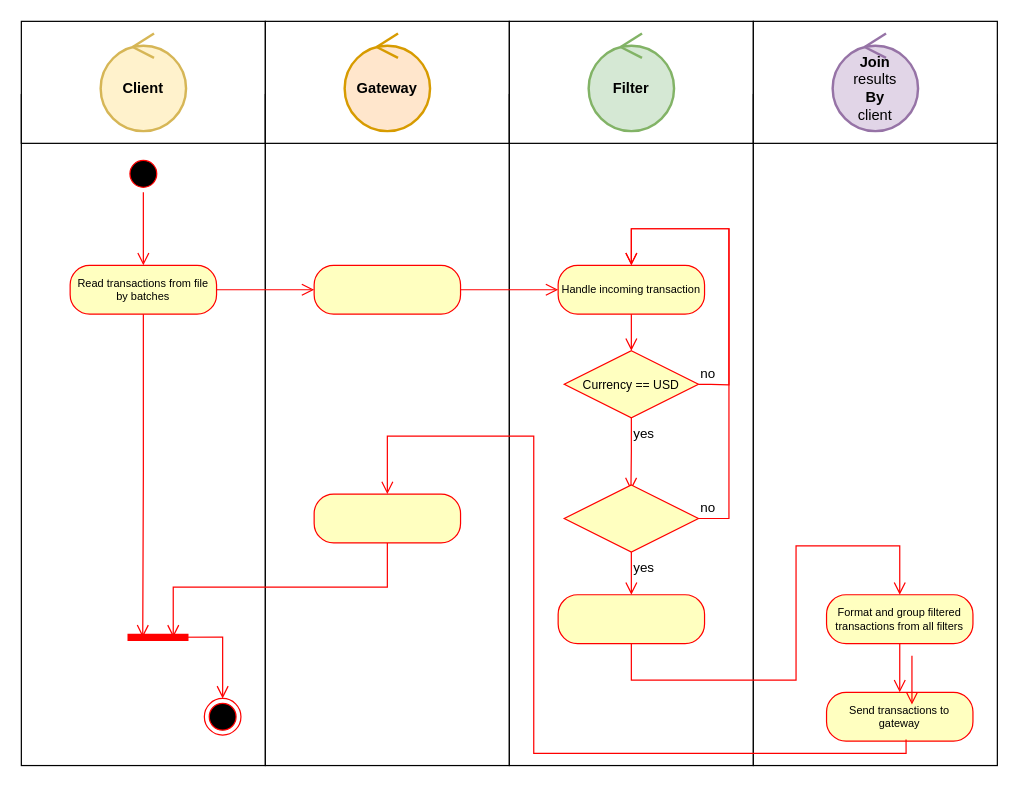
Some shapes in this 1019 by 787 pixel diagram are drawn without their labels. Here are the shapes that lost their labels. From the top down, the box of each, then its label:
(313, 264, 461, 314): Redirect transaction batch to filters
(313, 493, 461, 543): Redirect response to client
(563, 484, 698, 552): Amount < $50
(557, 594, 705, 644): Hash by client
